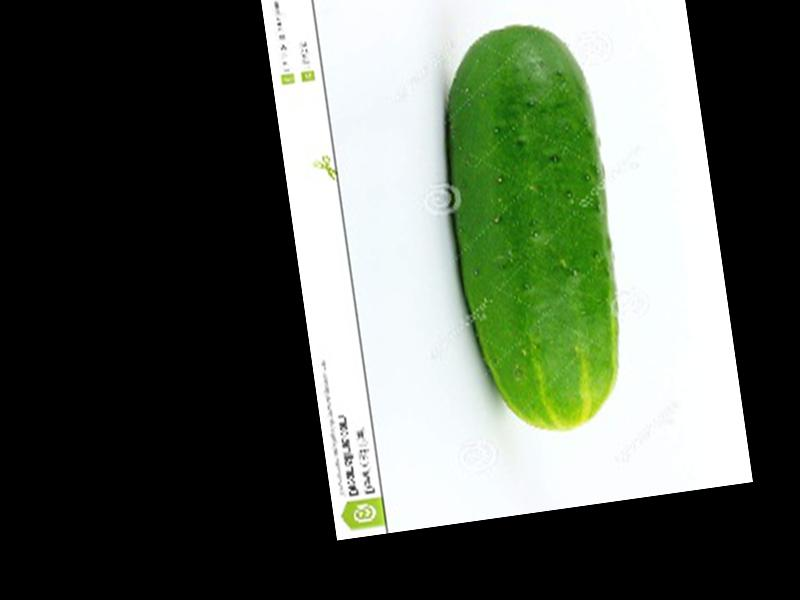Cucumber: (426, 15, 635, 439)
